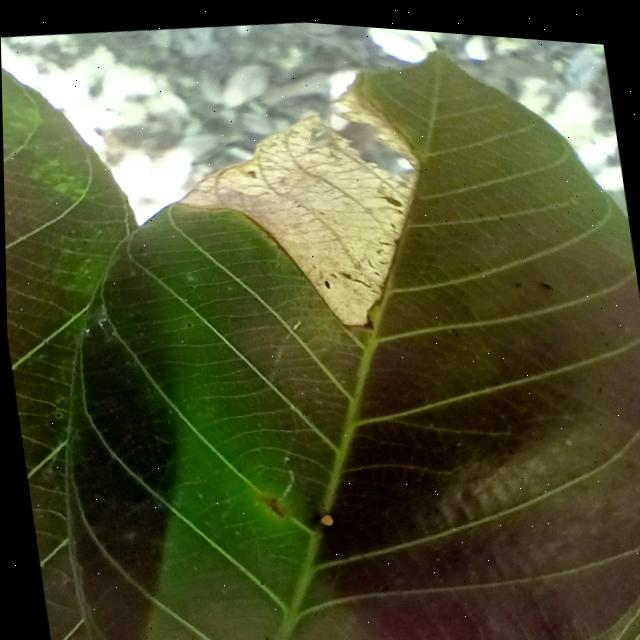Leaf-Blight: (161, 48, 443, 346)
